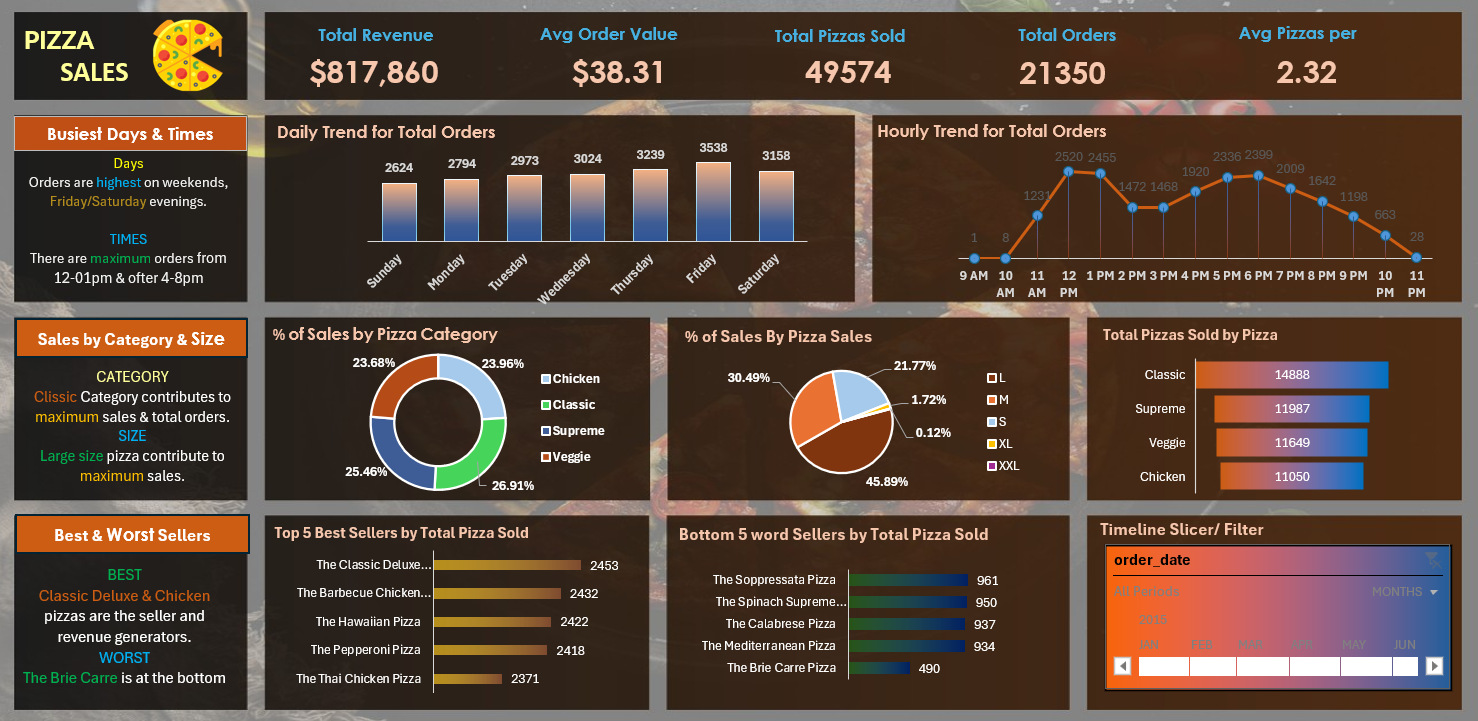

Layout of this report page (visuals, bound fields, positions):
{"tool":"powerbi","page":{"name":"HOME","canvas":[1280,720],"ordinal":0},"visuals":[{"type":"cardVisual","fields":{"Data":["pizza_sales.Total revenue","pizza_sales.Avg Order Value","pizza_sales.Total Pizzas Sold","pizza_sales.Total orders","pizza_sales.Avg Pizzas Per Order"]},"box":[281.7,65,998.3,175],"z":0},{"type":"shape","box":[1.7,0,1278.3,76.7],"z":1000},{"type":"textbox","box":[1.7,0,1278.3,46.7],"z":2000},{"type":"textbox","box":[0,33.3,1280,31.7],"z":3000},{"type":"image","box":[470,3.3,58.3,40],"z":4000},{"type":"shape","box":[781.7,240,498.3,228.3],"z":5000},{"type":"shape","box":[296.7,491.7,338.3,228.3],"z":6000},{"type":"shape","box":[296.7,240,461.7,228.3],"z":7000},{"type":"columnChart","title":"Daily Trend for Total Orders","fields":{"Category":["pizza_sales.Order day"],"Y":["pizza_sales.Total orders"]},"box":[335,271.7,383.3,166.7],"z":8000},{"type":"shape","box":[1.7,65,310,655],"z":9000},{"type":"areaChart","title":"Monthly Trend for total Orders","fields":{"Category":["pizza_sales.Order Month"],"Y":["pizza_sales.Total orders"]},"box":[801.7,271.7,451.7,166.7],"z":10000},{"type":"shape","box":[635,490,323.3,228.3],"z":11000},{"type":"shape","box":[958.3,490,321.7,228.3],"z":12000},{"type":"donutChart","title":"% of Sales by Pizza Category","fields":{"Category":["pizza_sales.pizza_category"],"Y":["pizza_sales.Total revenue"]},"box":[328.3,513.3,276.7,183.3],"z":13000},{"type":"donutChart","title":"% of Sales by Pizza Size","fields":{"Category":["pizza_sales.pizza_size"],"Y":["pizza_sales.Total revenue"]},"box":[653.3,515,295,183.3],"z":14000},{"type":"funnel","fields":{"Y":["pizza_sales.Total Pizzas Sold"],"Category":["pizza_sales.pizza_category"]},"box":[980,513.3,285,180],"z":15000},{"type":"textbox","box":[16.7,240,278.3,43.3],"z":16000},{"type":"textbox","box":[16.7,283.3,278.3,185],"z":17000},{"type":"textbox","box":[16.7,491.7,280,46.7],"z":18000},{"type":"textbox","box":[16.7,533.3,278.3,185],"z":19000},{"type":"slicer","fields":{"Values":["pizza_sales.order_date"]},"box":[1028.3,1.7,251.7,75],"z":20000},{"type":"slicer","fields":{"Values":["pizza_sales.pizza_category"]},"box":[860,3.3,168.3,73.3],"z":21000},{"type":"pageNavigator","box":[30,103.3,251.7,50],"z":22000},{"type":"pageNavigator","box":[30,168.3,251.7,50],"z":23000},{"type":"image","box":[231.7,103.3,36.7,50],"z":24000},{"type":"image","box":[48.3,100,41.7,53.3],"z":25000},{"type":"image","box":[33.3,173.3,71.7,38.3],"z":26000}]}

Visuals, with their boxes on the page's 1280x720 design canvas (x1, y1, x2, y2). These are canvas units, not pixel positions in the 1478x721 screenshot, which may show the page scaled, cropped or inside an application window:
cardVisual - pizza_sales.Total revenue x pizza_sales.Avg Order Value: [282, 65, 1280, 240]
shape: [2, 0, 1280, 77]
textbox: [2, 0, 1280, 47]
textbox: [0, 33, 1280, 65]
image: [470, 3, 528, 43]
shape: [782, 240, 1280, 468]
shape: [297, 492, 635, 720]
shape: [297, 240, 758, 468]
"Daily Trend for Total Orders" columnChart: [335, 272, 718, 438]
shape: [2, 65, 312, 720]
"Monthly Trend for total Orders" areaChart: [802, 272, 1253, 438]
shape: [635, 490, 958, 718]
shape: [958, 490, 1280, 718]
"% of Sales by Pizza Category" donutChart: [328, 513, 605, 697]
"% of Sales by Pizza Size" donutChart: [653, 515, 948, 698]
funnel - pizza_sales.Total Pizzas Sold x pizza_sales.pizza_category: [980, 513, 1265, 693]
textbox: [17, 240, 295, 283]
textbox: [17, 283, 295, 468]
textbox: [17, 492, 297, 538]
textbox: [17, 533, 295, 718]
slicer - pizza_sales.order_date: [1028, 2, 1280, 77]
slicer - pizza_sales.pizza_category: [860, 3, 1028, 77]
pageNavigator: [30, 103, 282, 153]
pageNavigator: [30, 168, 282, 218]
image: [232, 103, 268, 153]
image: [48, 100, 90, 153]
image: [33, 173, 105, 212]
